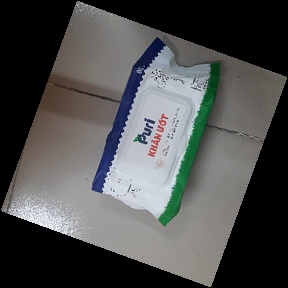Puri Trang: (90, 35, 224, 229)
